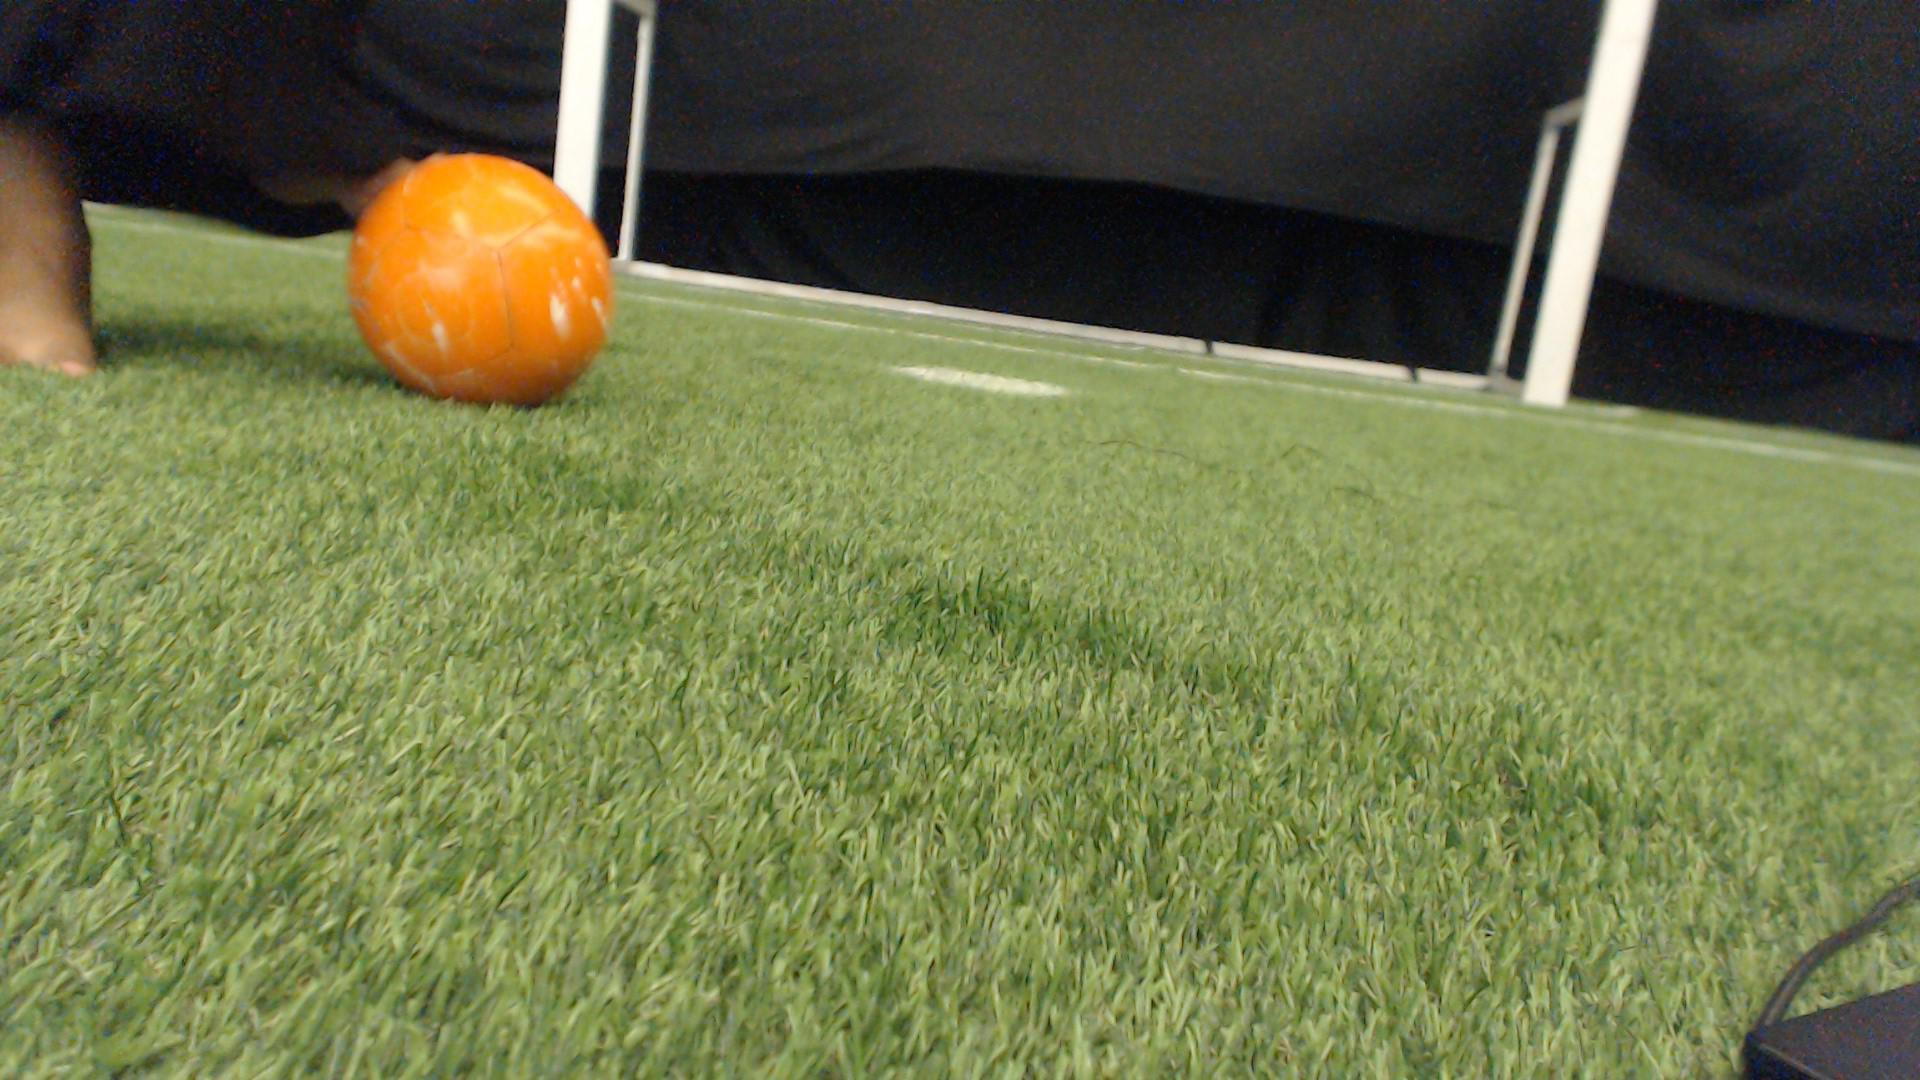bola: (342, 123, 634, 438)
